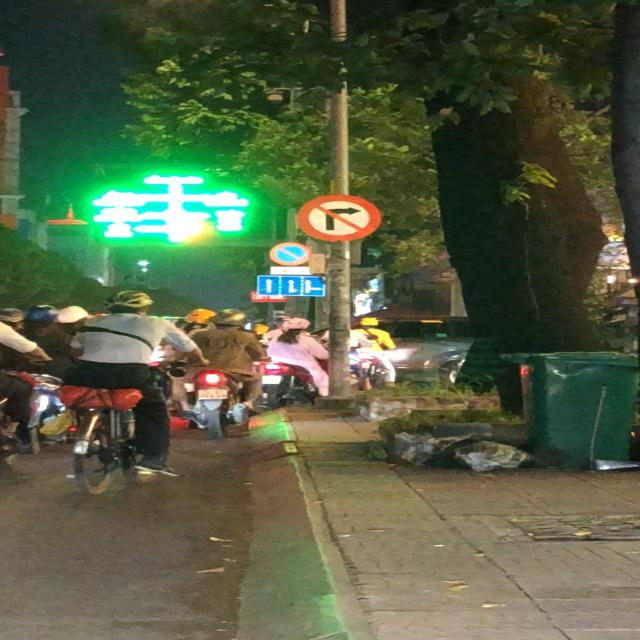Bien bao cam re phai: (297, 192, 383, 242)
